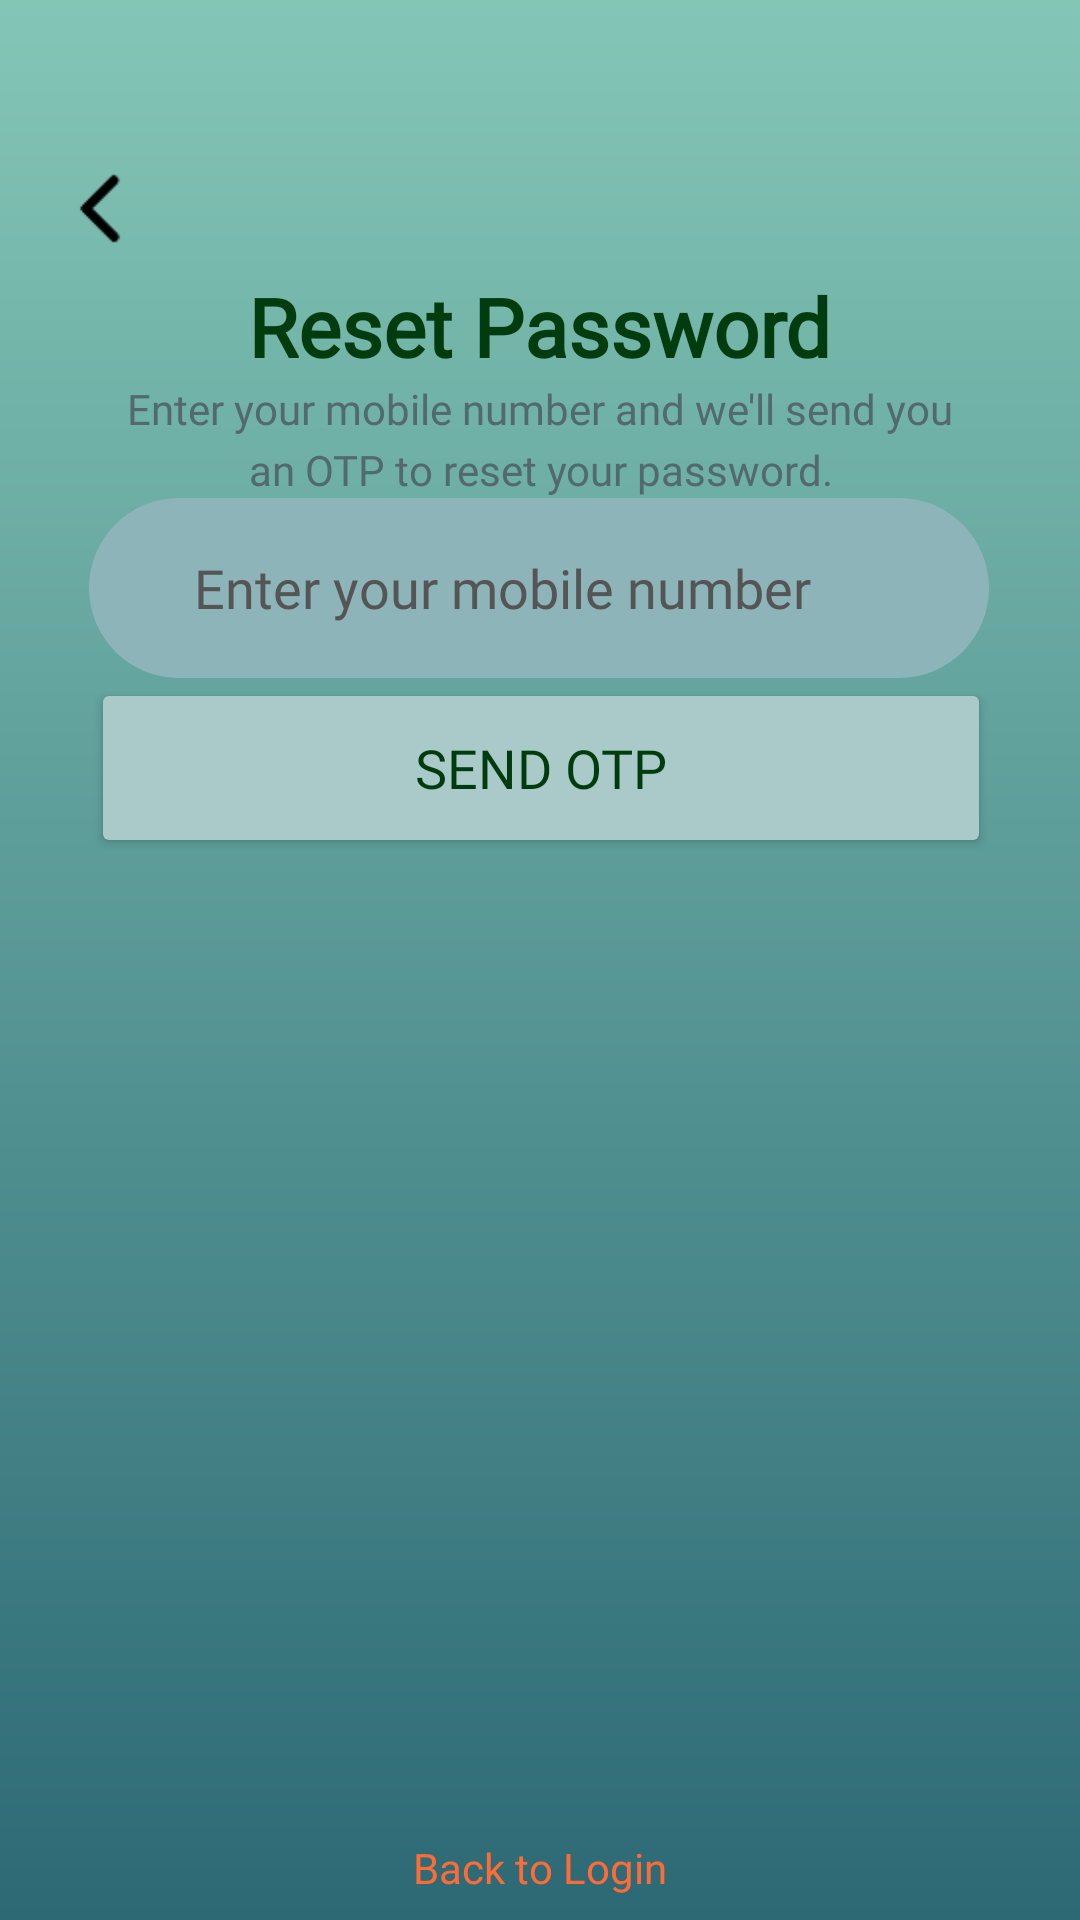

Point at icon controls on the screen. Image size 1080x1920, points as point (x, y).
back: point (100, 208)
